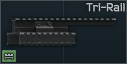Mosin AIM Sports Tri-Rail mount: (0, 0, 127, 64)
